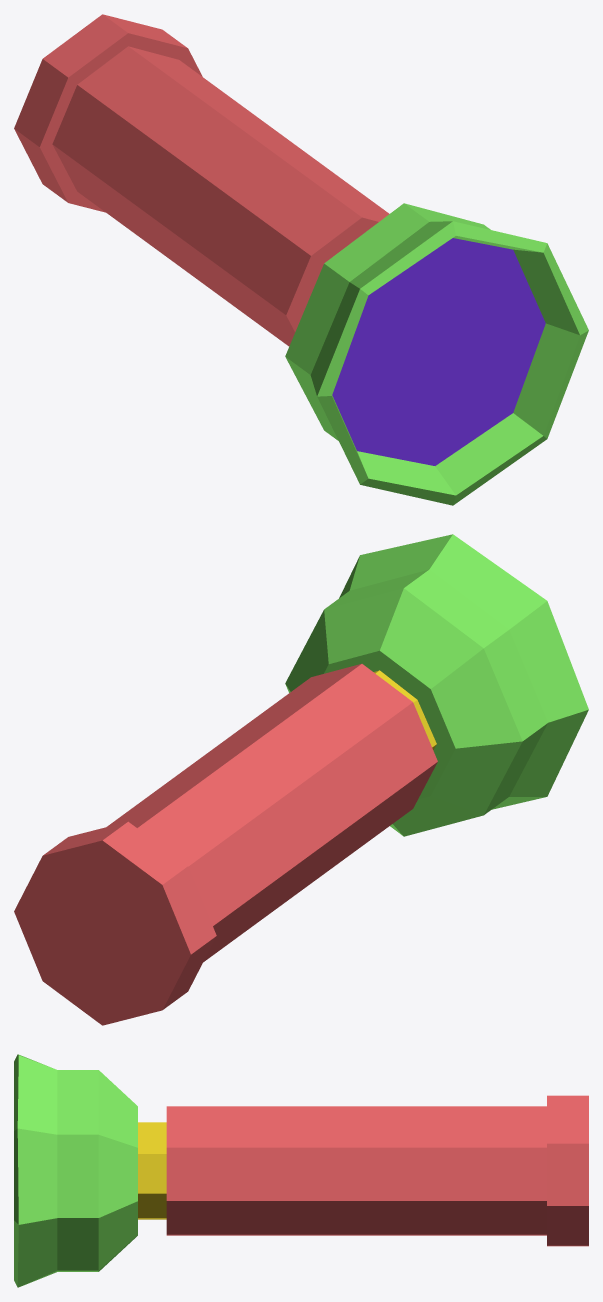
File: flashlight.fbx
3 renders of one model, top to bottom at view 1: azimuth 30°, elevation 25°; view 2: azimuth 150°, elevation 25°; view 3: azimuth 270°, elevation 25°, orthographic. The views are drawn at different scales.
Visible parts, largest first — view 1: Cube; view 2: Cube; view 3: Cube.
Boxes of the visible parts, left/top/right/bottom form: Cube: left=14, top=14, right=588, bottom=505; Cube: left=14, top=534, right=588, bottom=1025; Cube: left=14, top=1054, right=588, bottom=1287.
Bounding box in the file's own units: 229 × 229 × 515.
